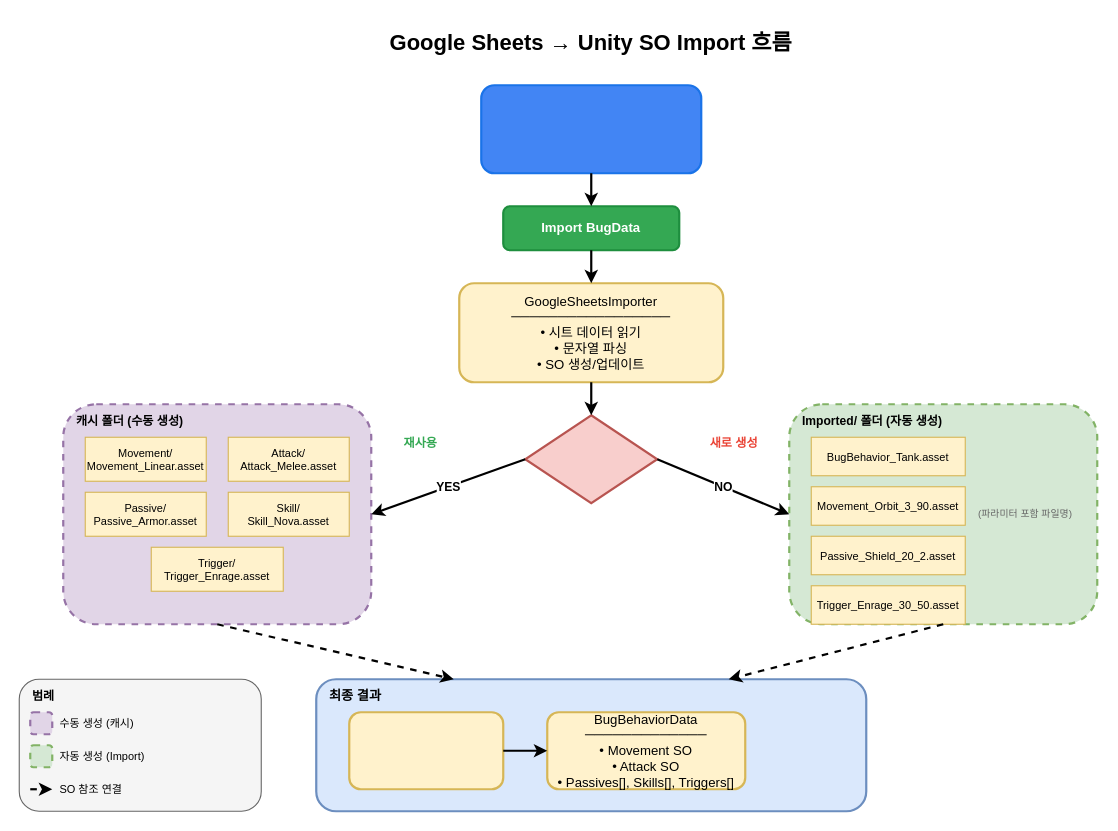
This 1118x831 diagram has some shape labels left out. The centre of each missing label's shape, as x and y in pixels:
BugData ───────── • 스탯 정보 • BehaviorData 참조: [426,750]
Google Sheets ───────────── BugData 시트 (스탯 + 행동 컬럼): [591,129]
기존 SO 존재?: [591,459]
